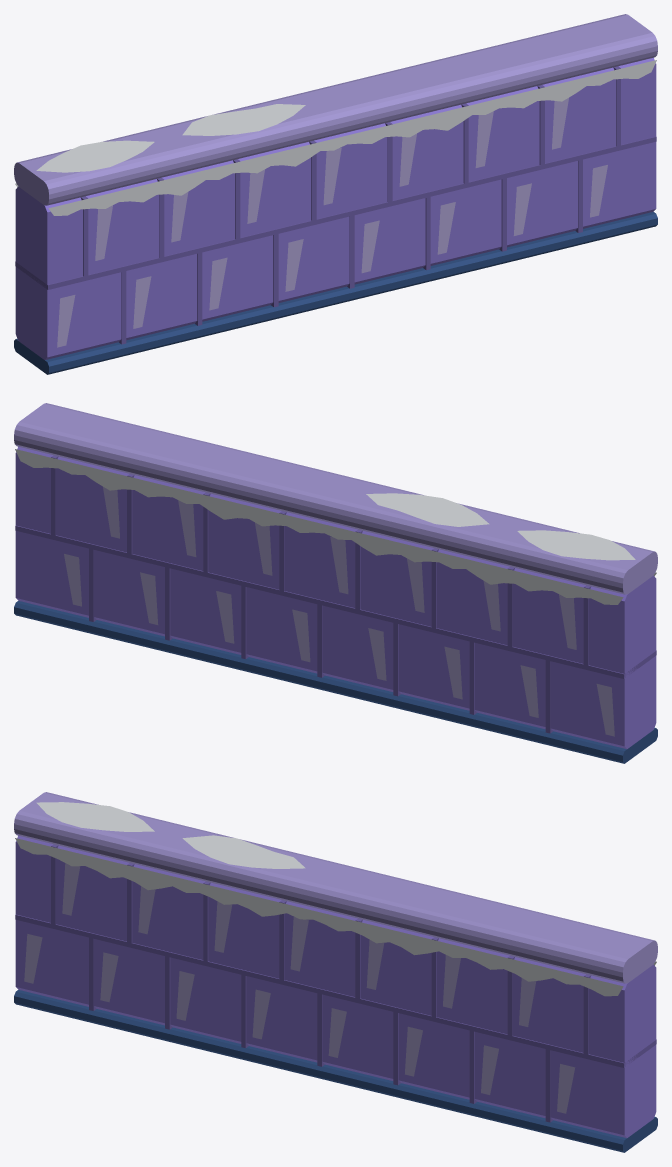
File: ice-wall2.glb
3 views of the same model, one above another, from view 1: azimuth 30°, elevation 25°; view 2: azimuth 150°, elevation 25°; view 3: azimuth 330°, elevation 25° (orthographic).
Visible parts, largest first — view 1: ice-wall2; view 2: ice-wall2; view 3: ice-wall2.
Part boxes in pixels (x1,y1,x2,y2): ice-wall2: (14, 14, 657, 374); ice-wall2: (14, 403, 657, 763); ice-wall2: (14, 792, 657, 1152).
Bounding box in the file's own units: 4 × 1.2 × 0.4.
